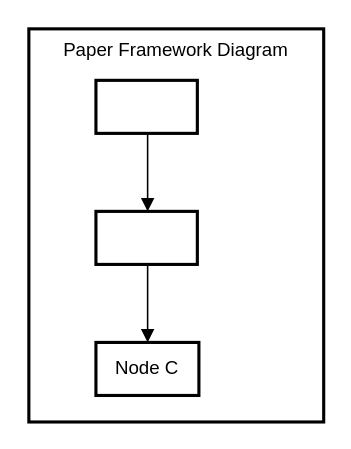
Image size: 351x449. Some labels were removed from this diagram. Here are the shapes that lost their labels. From the top down, the centre of each, then its label:
the point at 146,106: Node A
the point at 146,237: Node B
